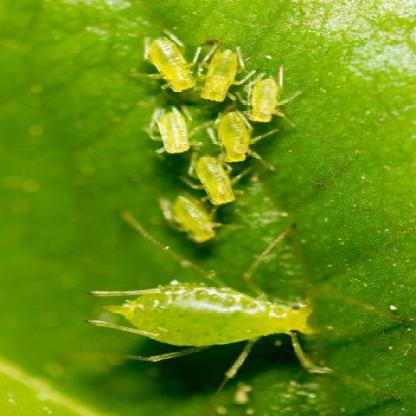aphid: (88, 233, 328, 396), (126, 25, 203, 102), (178, 28, 252, 108), (142, 189, 222, 247), (139, 98, 206, 160), (173, 154, 246, 210), (237, 62, 302, 122), (210, 102, 270, 166)
